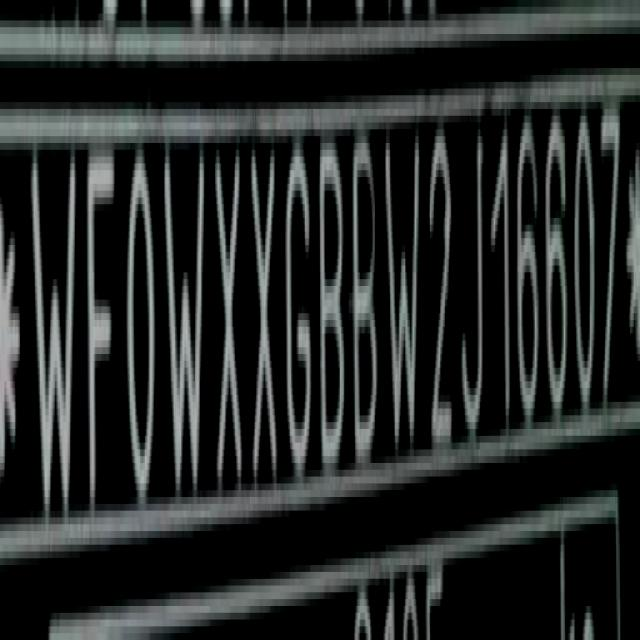0: (125, 152, 162, 512), (574, 105, 598, 424)
1: (491, 114, 515, 426)
2: (427, 118, 457, 458)
6: (516, 106, 543, 434), (546, 106, 573, 430)
7: (600, 99, 622, 415)
B: (350, 134, 382, 472), (317, 139, 346, 469)
F: (87, 151, 120, 518)
G: (284, 141, 318, 489)
J: (460, 120, 488, 454)
W: (28, 145, 79, 527), (166, 144, 208, 508), (385, 127, 424, 467)
X: (210, 140, 246, 500), (249, 139, 282, 495)
